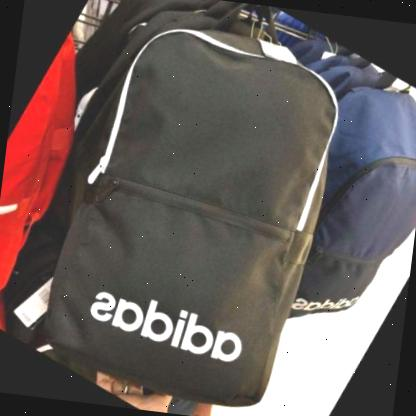bag: (29, 0, 351, 414)
